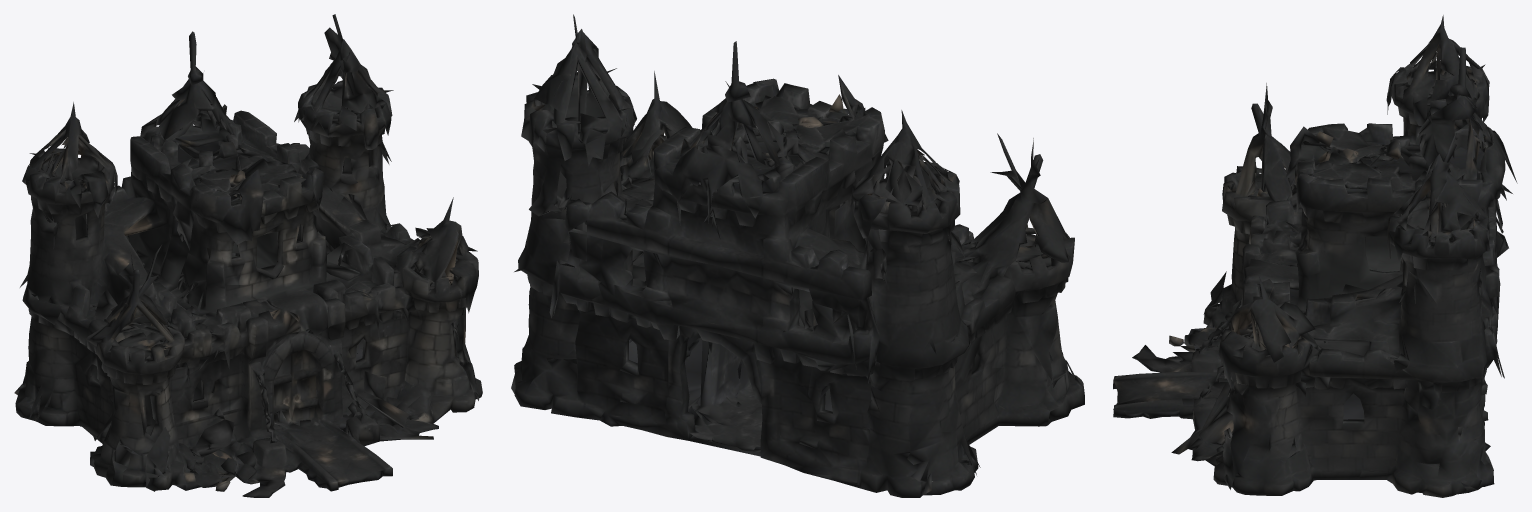
File: Castle_destroyed.glb
3 renders of one model, left to right at view 1: azimuth 30°, elevation 25°; view 2: azimuth 150°, elevation 25°; view 3: azimuth 270°, elevation 25°, orthographic. The views are drawn at different scales.
Visible parts, largest first — view 1: Mesh_0; view 2: Mesh_0; view 3: Mesh_0.
Boxes of the visible parts, box(x1,y1,x2,y2) form: Mesh_0: box(14, 14, 482, 497); Mesh_0: box(511, 14, 1084, 497); Mesh_0: box(1113, 15, 1517, 497).
Bounding box in the file's own units: 1.89 × 1.54 × 1.61.
Materials: 1 (1 with a texture image).
